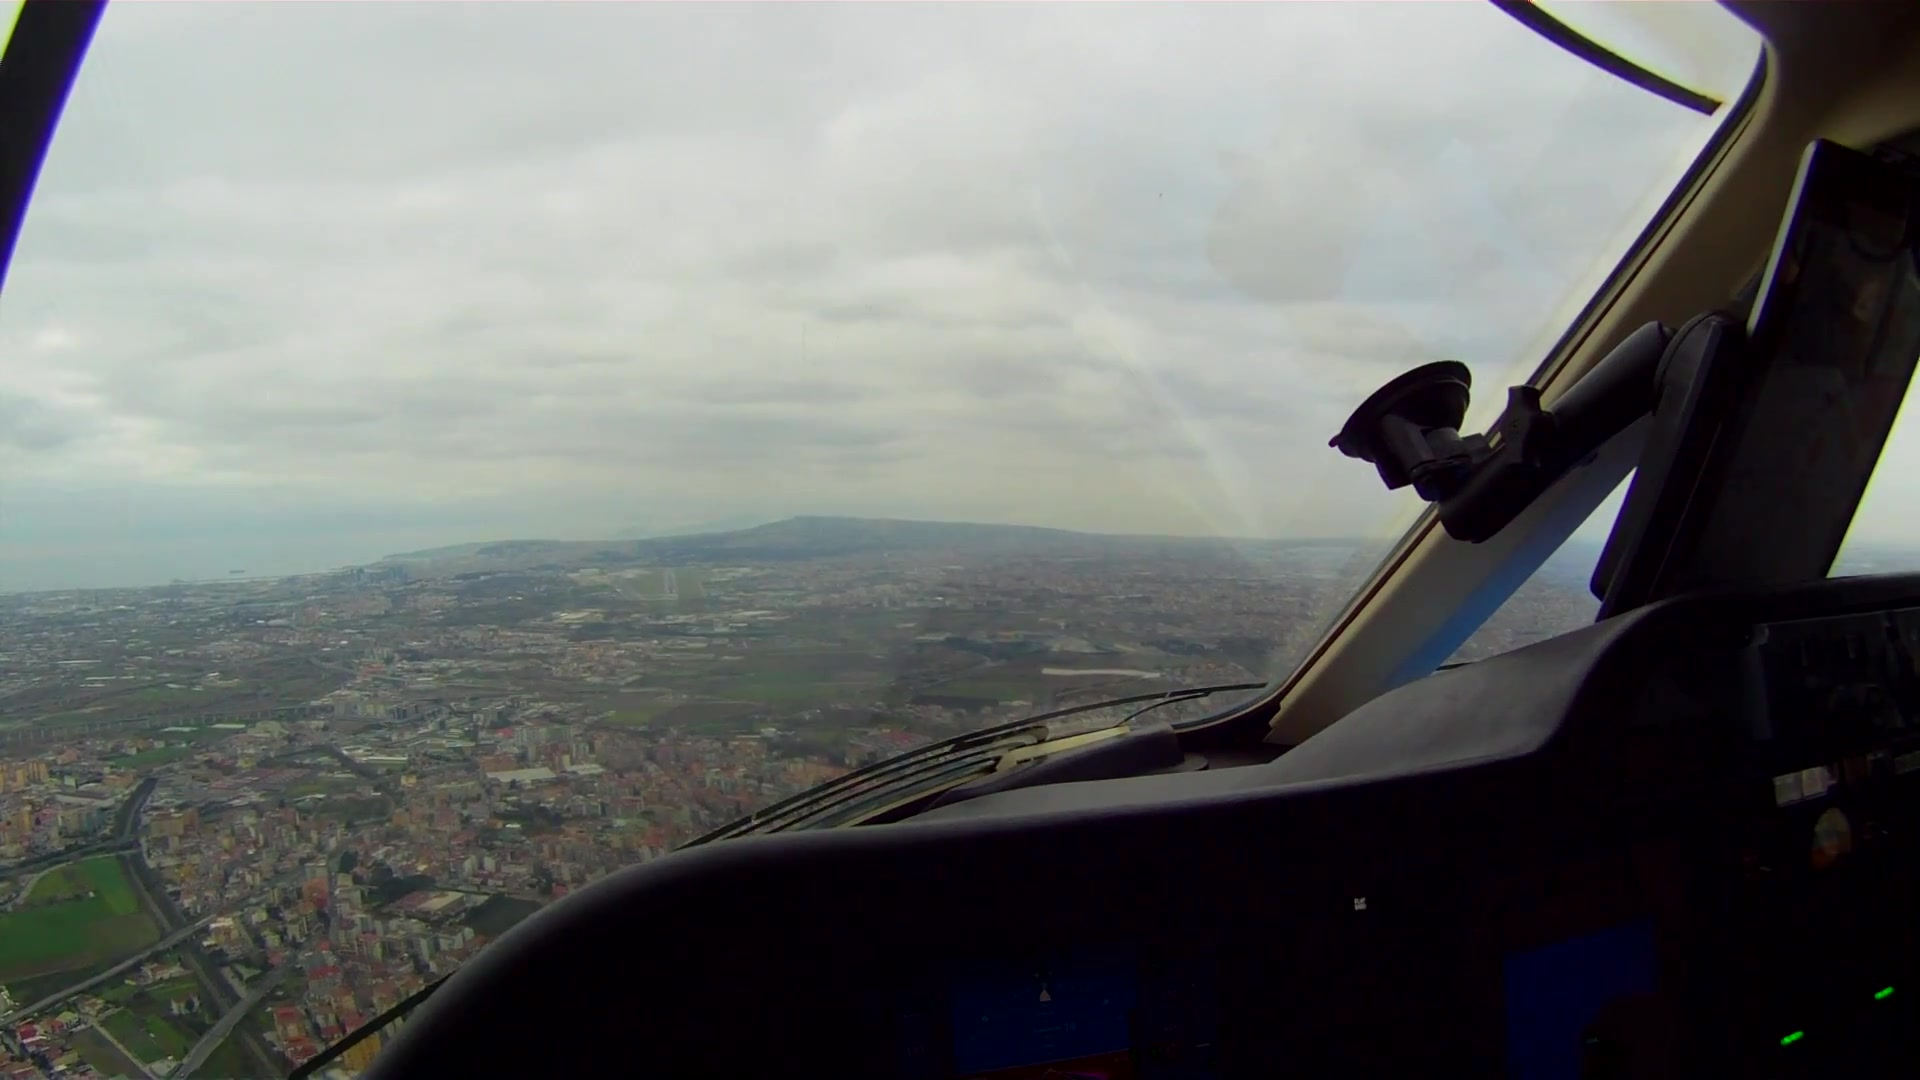runway: (663, 567, 676, 597)
